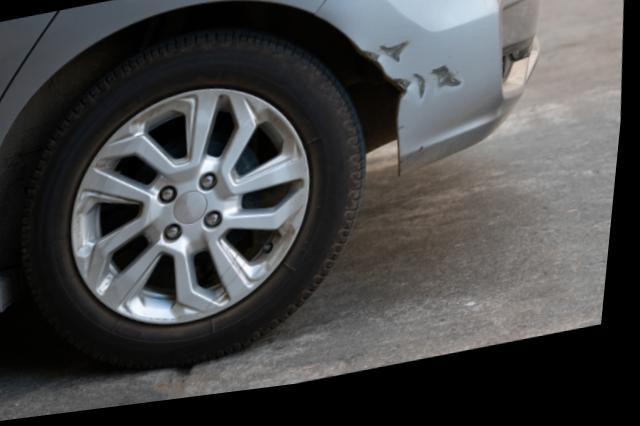scratch: (365, 50, 470, 116)
